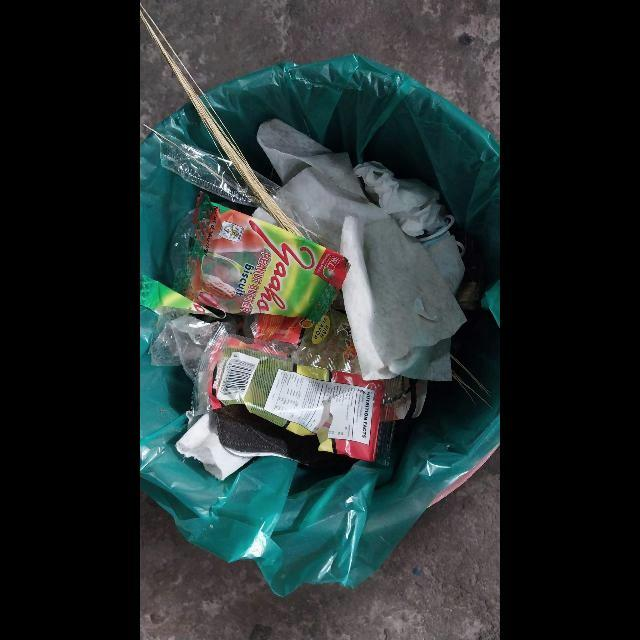food_wrapper: (190, 326, 401, 466), (140, 192, 351, 323)
paper: (256, 118, 467, 383)
